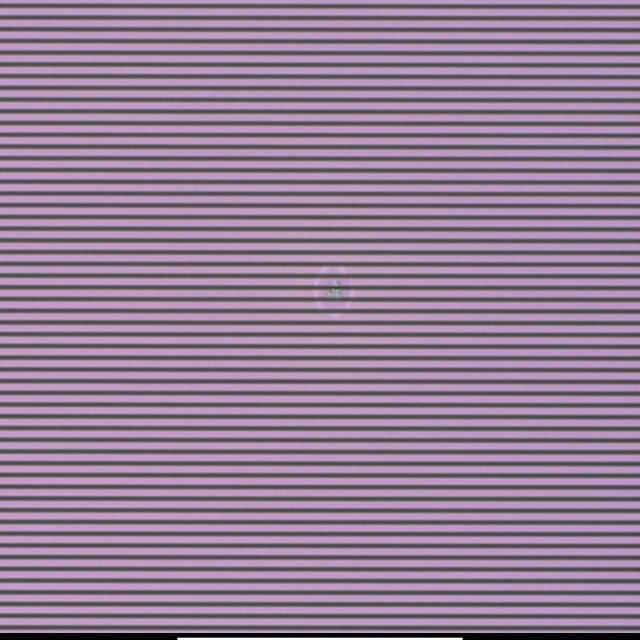03_intrusion: (320, 276, 350, 302)
